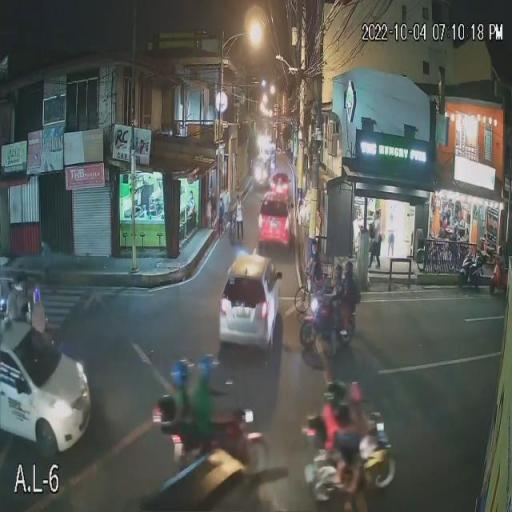helmet: (315, 379, 352, 408), (165, 356, 197, 387), (196, 349, 221, 381), (346, 375, 371, 407), (328, 261, 347, 281), (343, 259, 356, 280)
motorcycle: (150, 392, 272, 476), (303, 415, 410, 507), (290, 288, 359, 359)
rider: (190, 378, 244, 455), (344, 400, 378, 499), (317, 404, 353, 494), (171, 390, 204, 452), (337, 276, 364, 338), (324, 278, 343, 359)
